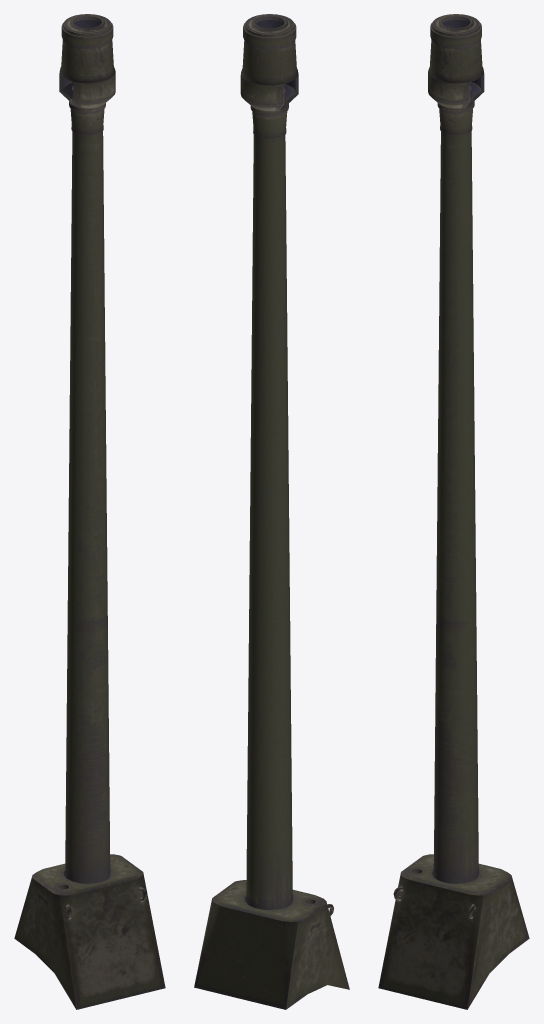
Rendered from Gun_01.glb.
The picture shows the model from 3 angles, left to right: view 1: azimuth 30°, elevation 25°; view 2: azimuth 150°, elevation 25°; view 3: azimuth 330°, elevation 25°; orthographic projection. The views are drawn at different scales.
Parts seen in each view (by area): view 1: set_0_group_0; view 2: set_0_group_0; view 3: set_0_group_0.
Boxes of the visible parts, x1,y1,x2,y2 form: set_0_group_0: [14, 14, 165, 1009]; set_0_group_0: [194, 14, 349, 1009]; set_0_group_0: [378, 14, 529, 1009].
Size of the model in its own units: 0.5837 by 5.94 by 0.7011.
Materials: 1 (1 with a texture image).
